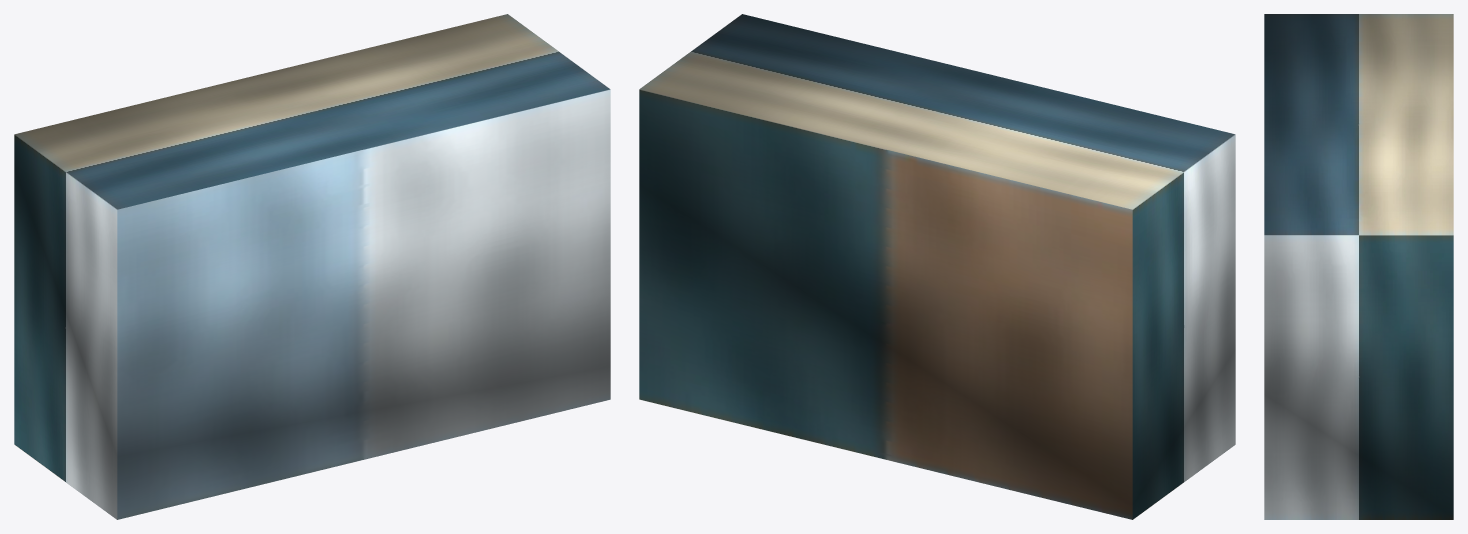
Rendered from cliff_snow.glb.
3 renders of one model, left to right at view 1: azimuth 30°, elevation 25°; view 2: azimuth 150°, elevation 25°; view 3: azimuth 270°, elevation 25°, orthographic. The views are drawn at different scales.
Parts seen in each view (by area): view 1: col; view 2: col; view 3: col.
Boxes of the visible parts, x1=… form: col: x1=14, y1=14, x2=610, y2=519; col: x1=639, y1=14, x2=1235, y2=519; col: x1=1264, y1=14, x2=1453, y2=519.
Size of what is drawn, in the model's own units: 9.95 by 5.98 by 3.6.
1 material, 1 textured.
